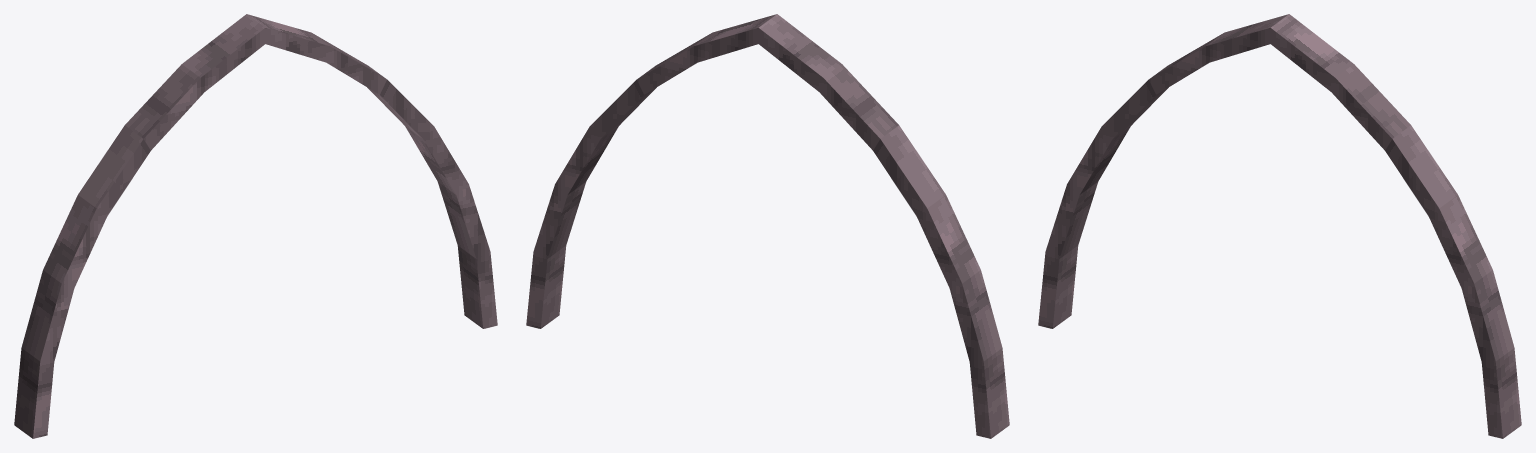
Rendered from portcullis_guide_a.glb.
The picture shows the model from 3 angles, left to right: view 1: azimuth 30°, elevation 25°; view 2: azimuth 150°, elevation 25°; view 3: azimuth 330°, elevation 25°; orthographic projection.
Visible parts, largest first — view 1: guide; view 2: guide; view 3: guide.
Part boxes in pixels (x1,y1,x2,y2): guide: (14, 14, 497, 438); guide: (526, 14, 1009, 438); guide: (1038, 14, 1521, 438).
Bounding box in the file's own units: 2 × 1.46 × 0.14.
1 material, 1 textured.
